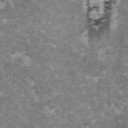oxide scale of plate system: (83, 0, 116, 43)
